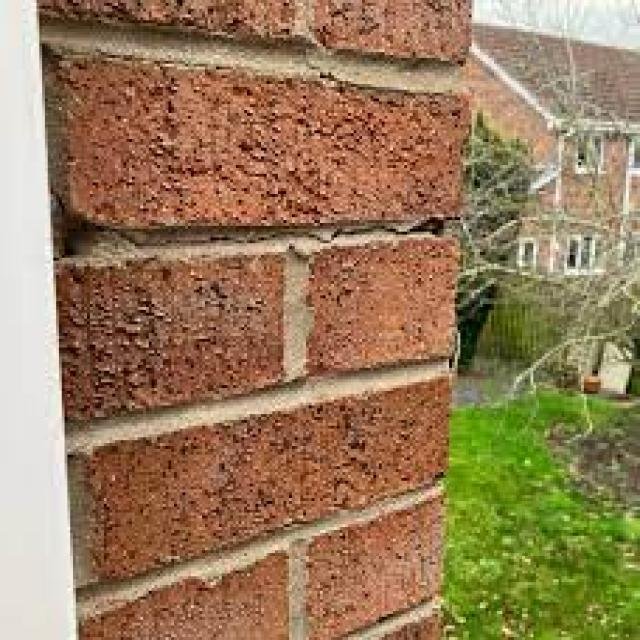Crack: (124, 206, 458, 243)
